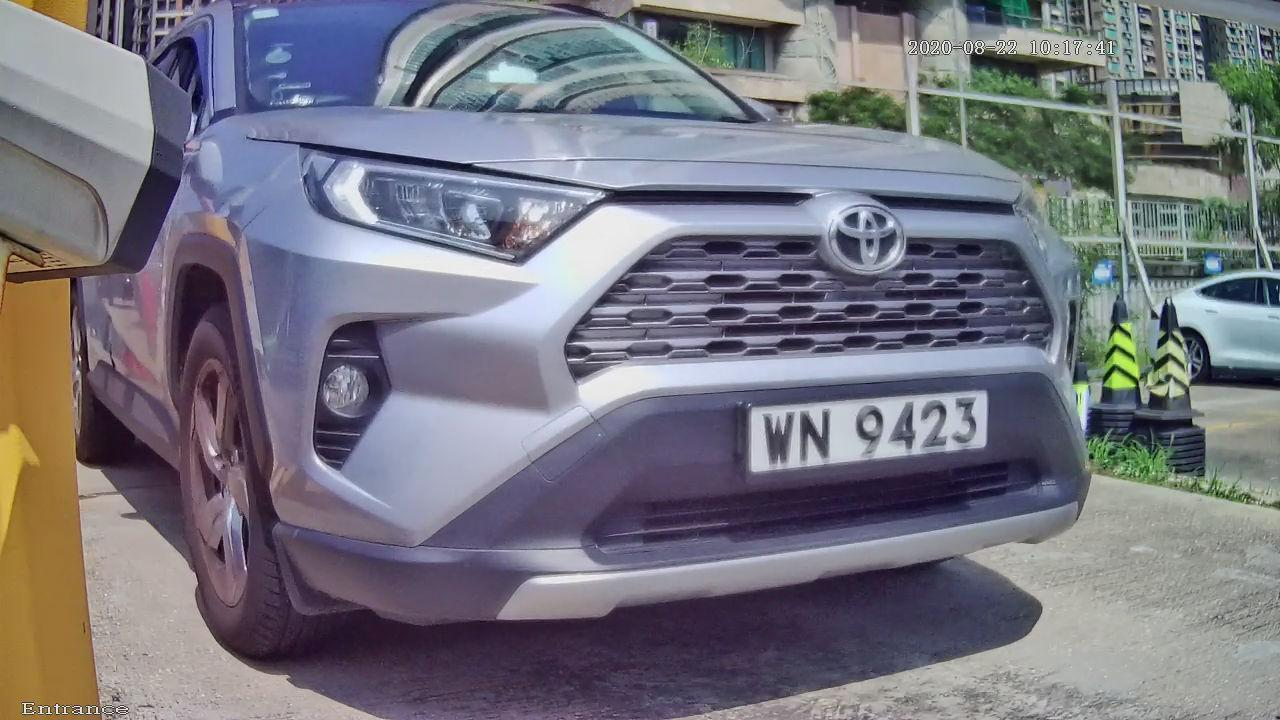Car: (52, 7, 1183, 698)
License Plate: (726, 373, 995, 483)
